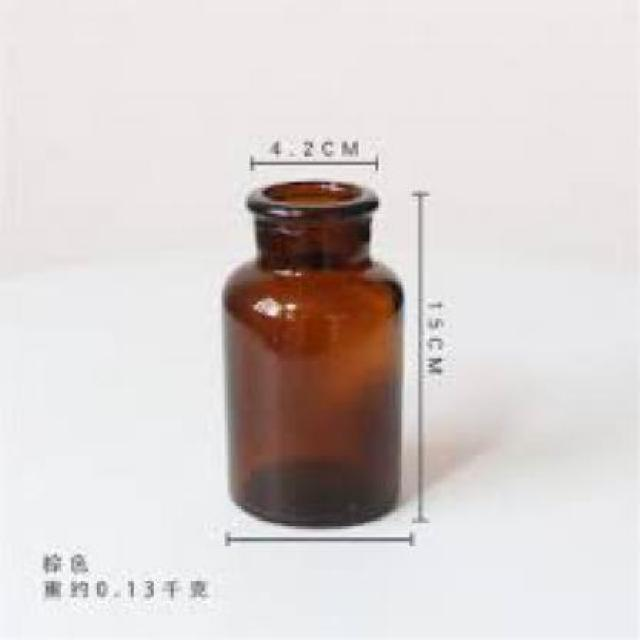kaca: (222, 177, 398, 523)
